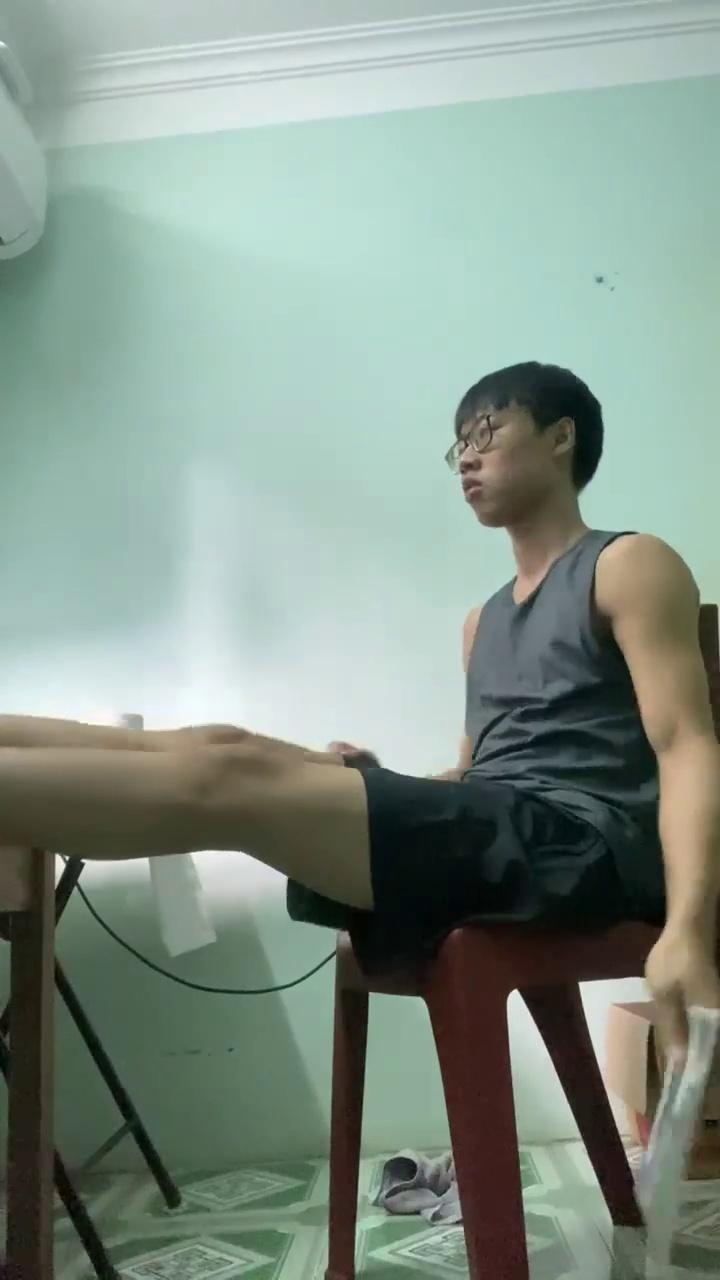BadPosture: (0, 716, 602, 937)
